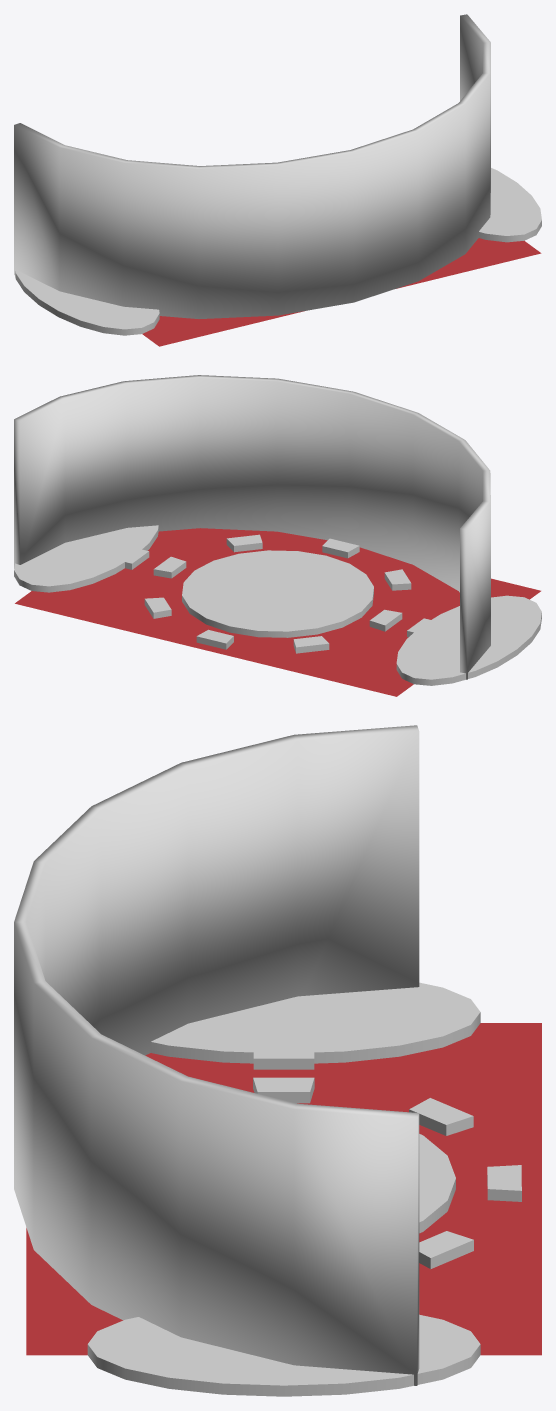
File: Map 4.fbx
The picture shows the model from 3 angles, top to bottom: view 1: azimuth 30°, elevation 25°; view 2: azimuth 150°, elevation 25°; view 3: azimuth 270°, elevation 25°; orthographic projection. The views are drawn at different scales.
Visible parts, largest first — view 1: Back Wall.001, Ground.005, Right Base, Left Base; view 2: Back Wall.001, Ground.005, Circle Floor, Right Base, Left Base, Rotating platform; view 3: Back Wall.001, Ground.005, Right Base, Left Base, Rotating platform, Circle Floor.
Part boxes in pixels (x1,y1,x2,y2): Back Wall.001: [14, 14, 490, 318]; Ground.005: [142, 238, 541, 346]; Right Base: [15, 269, 159, 335]; Left Base: [478, 168, 541, 242]; Back Wall.001: [14, 375, 490, 679]; Ground.005: [15, 528, 540, 696]; Circle Floor: [182, 550, 373, 637]; Right Base: [396, 595, 541, 685]; Left Base: [14, 525, 158, 592]; Rotating platform: [144, 534, 411, 653]; Back Wall.001: [14, 725, 419, 1385]; Ground.005: [26, 1023, 541, 1355]; Right Base: [150, 982, 480, 1069]; Left Base: [87, 1314, 480, 1396]; Rotating platform: [253, 1077, 521, 1268]; Circle Floor: [419, 1134, 455, 1233].
Bounding box in the file's own units: 8000 × 2400 × 4300.
